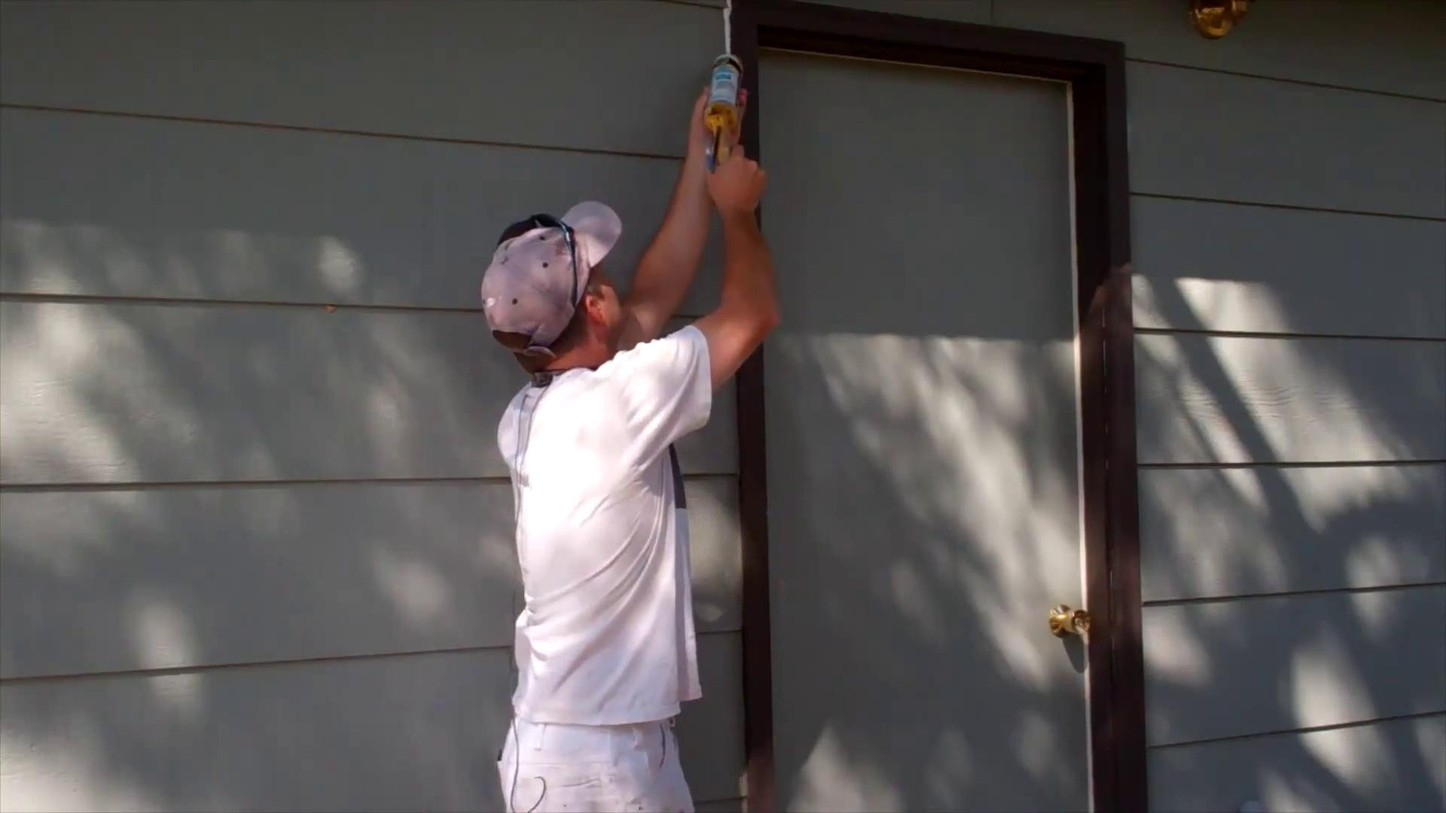victim: (469, 77, 786, 812)
